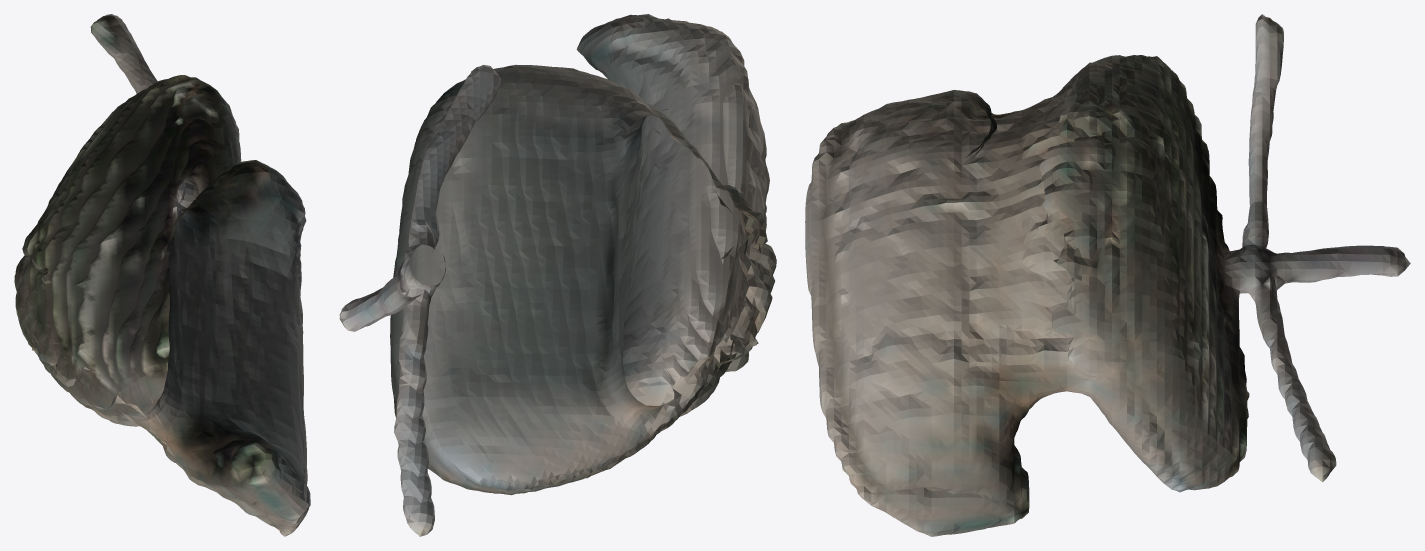
File: chair_left-model.glb
3 views of the same model, side by side, from view 1: azimuth 30°, elevation 25°; view 2: azimuth 150°, elevation 25°; view 3: azimuth 270°, elevation 25° (orthographic). The views are drawn at different scales.
Visible parts, largest first — view 1: world; view 2: world; view 3: world.
Part boxes in pixels (x1,y1,x2,y2): world: (14,14,310,536); world: (339,14,776,536); world: (805,14,1410,536).
Bounding box in the file's own units: 0.4238 × 0.6586 × 0.734.
